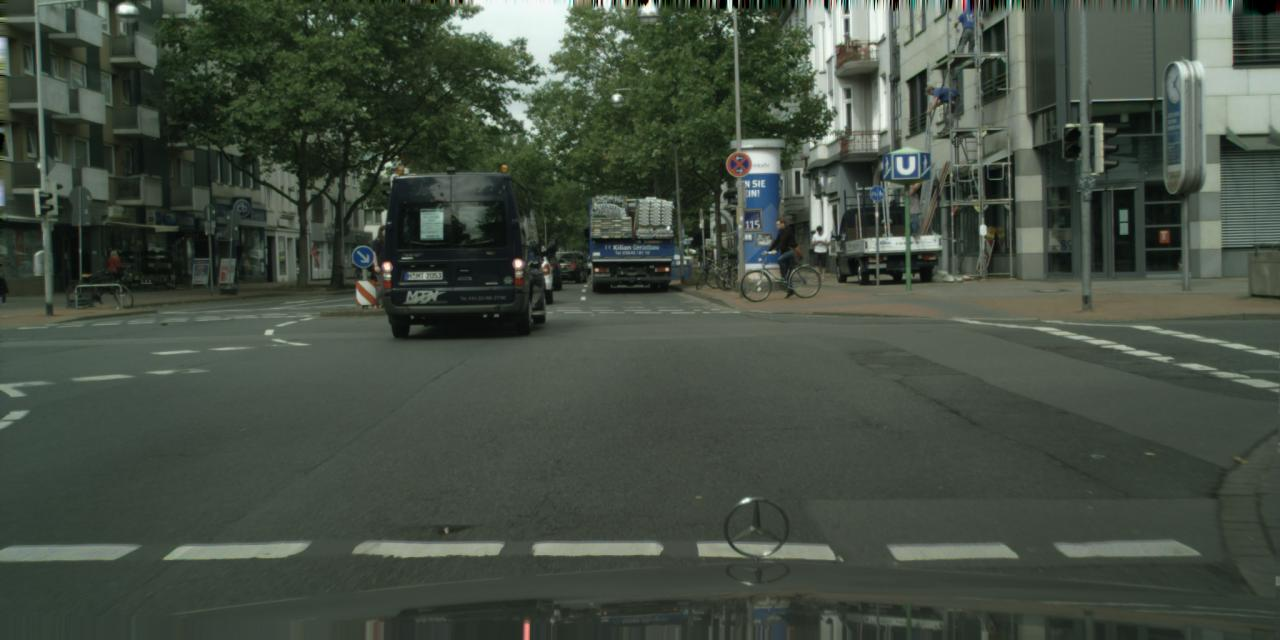ped: (364, 224, 398, 308), (770, 217, 799, 287), (808, 225, 831, 281), (956, 5, 978, 60), (927, 84, 946, 132), (104, 250, 122, 293), (705, 245, 716, 259), (698, 247, 703, 266), (706, 260, 706, 264)
